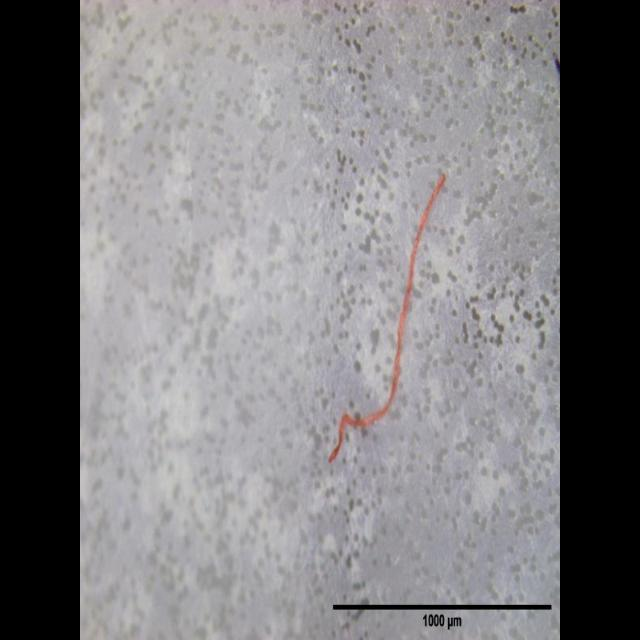Fibre: (328, 170, 447, 464)
